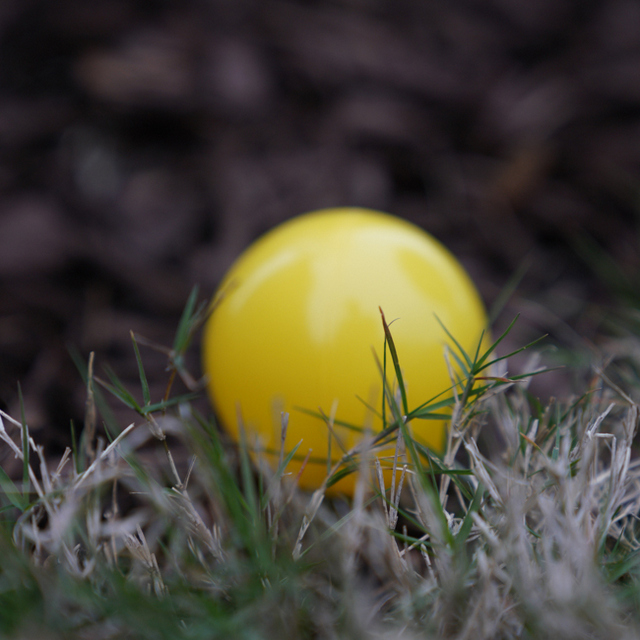Ball: (201, 213, 501, 483)
